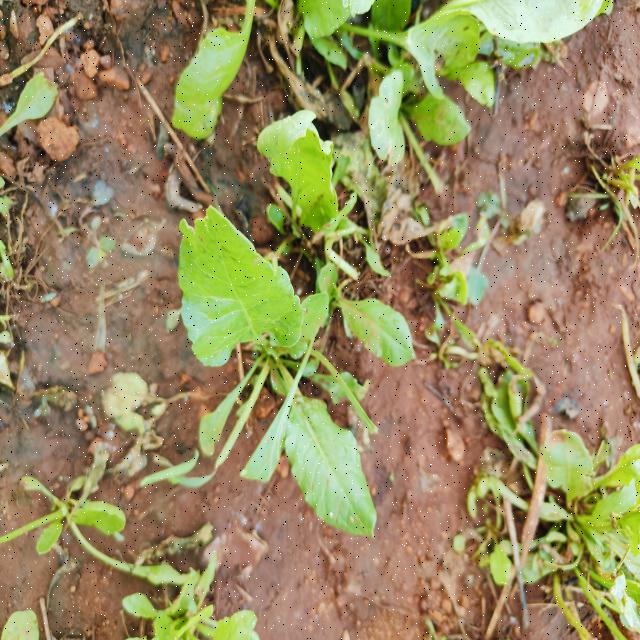leaves: (165, 203, 315, 402), (261, 332, 384, 550), (253, 70, 368, 261), (151, 1, 266, 146), (329, 17, 473, 125), (330, 264, 415, 388), (350, 62, 423, 169)
